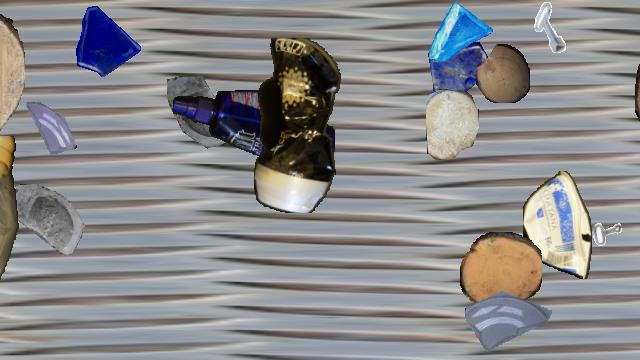glass: (465, 273, 551, 359), (165, 76, 251, 162), (13, 182, 97, 266), (67, 1, 143, 77), (426, 42, 492, 108), (427, 1, 493, 67), (21, 101, 79, 159)
metal: (573, 193, 631, 251), (526, 1, 578, 53)
plastic: (254, 38, 342, 212), (173, 90, 335, 172), (523, 171, 591, 279), (0, 136, 21, 314)
wood: (460, 232, 542, 310), (0, 1, 25, 147), (426, 89, 478, 159), (476, 44, 530, 102), (635, 22, 640, 128)
